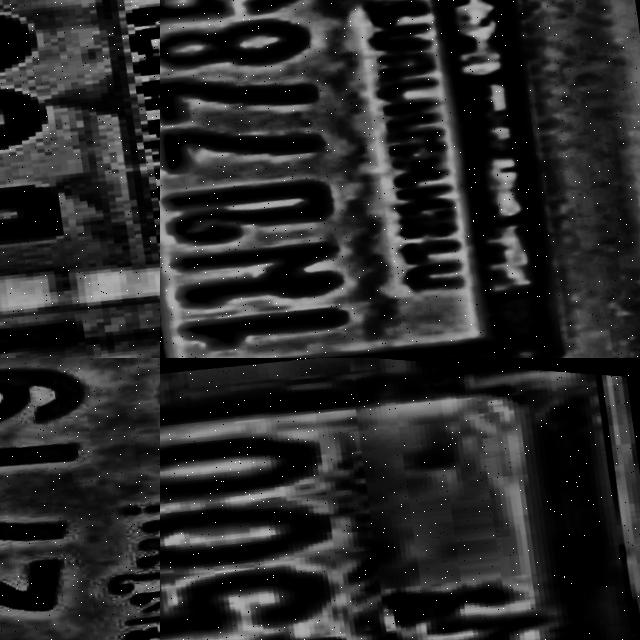license-plate: (160, 0, 576, 358), (160, 358, 640, 640), (0, 0, 160, 358), (0, 358, 160, 640)
